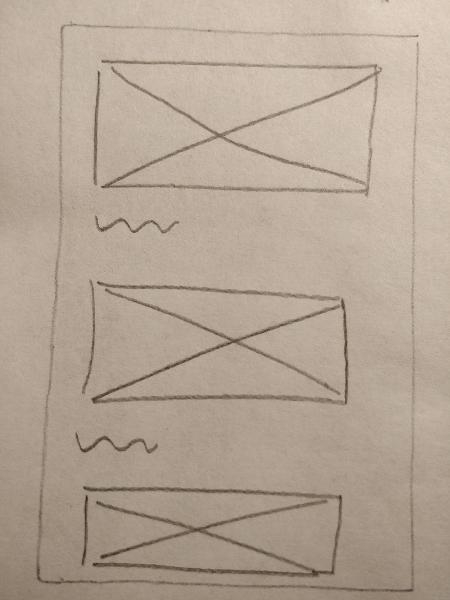image: (86, 48, 388, 204), (76, 271, 352, 414), (71, 480, 350, 581)
text: (70, 424, 162, 461), (86, 206, 182, 239)
